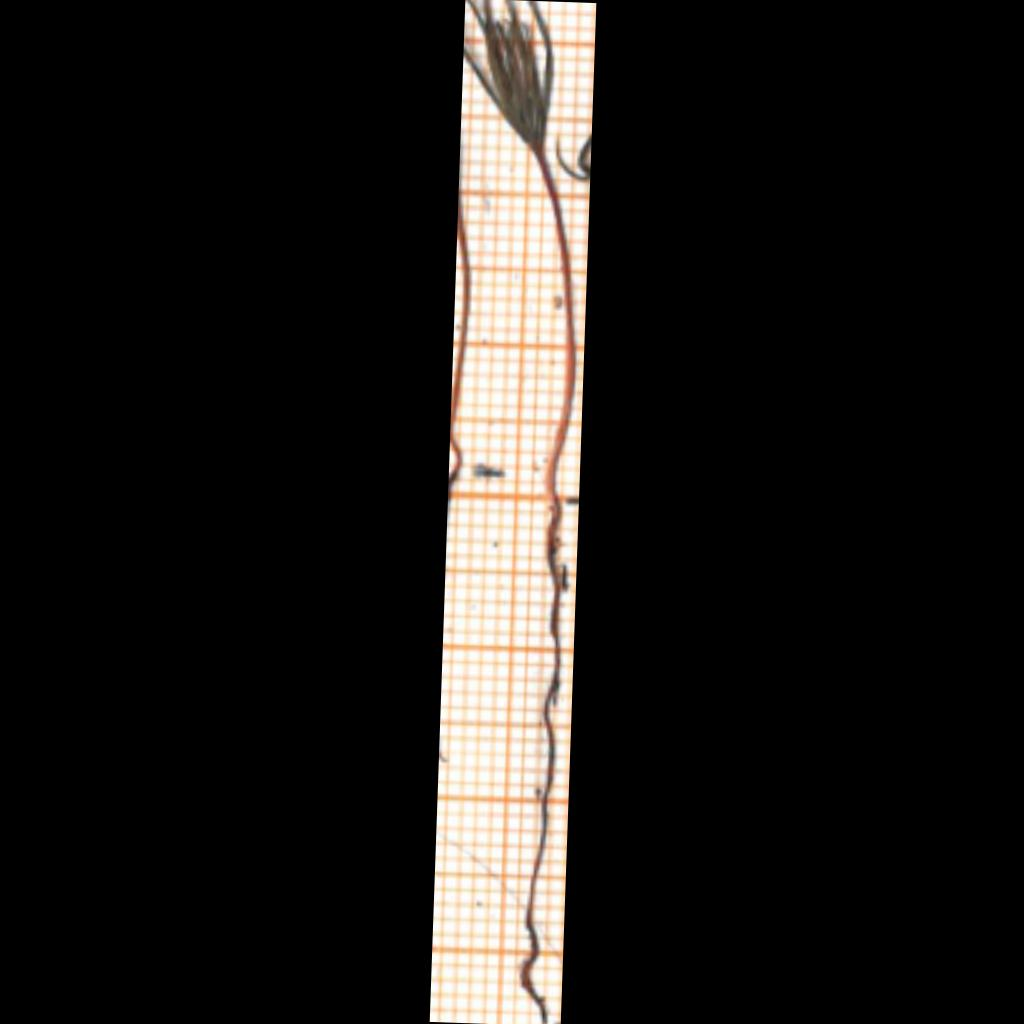flowerPinus: (463, 0, 553, 151)
rootPinus: (522, 498, 562, 1023)
stemPinus: (535, 152, 576, 503)
